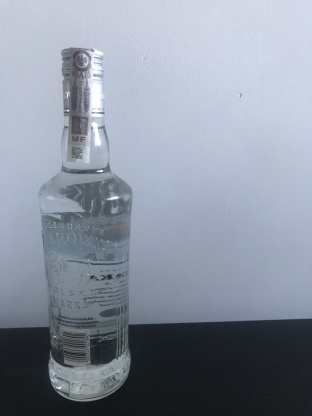nakretka: (58, 43, 107, 122)
